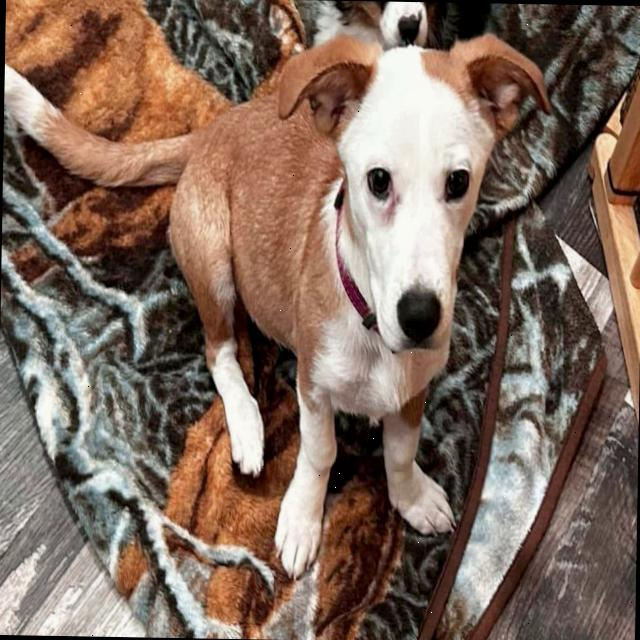corgi_dog: (255, 3, 583, 386)
